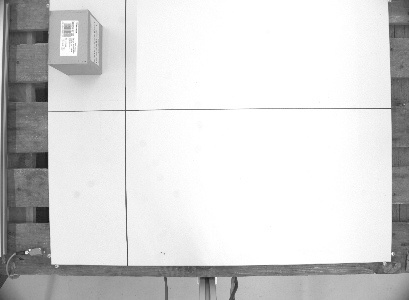b5: (45, 7, 105, 77)
